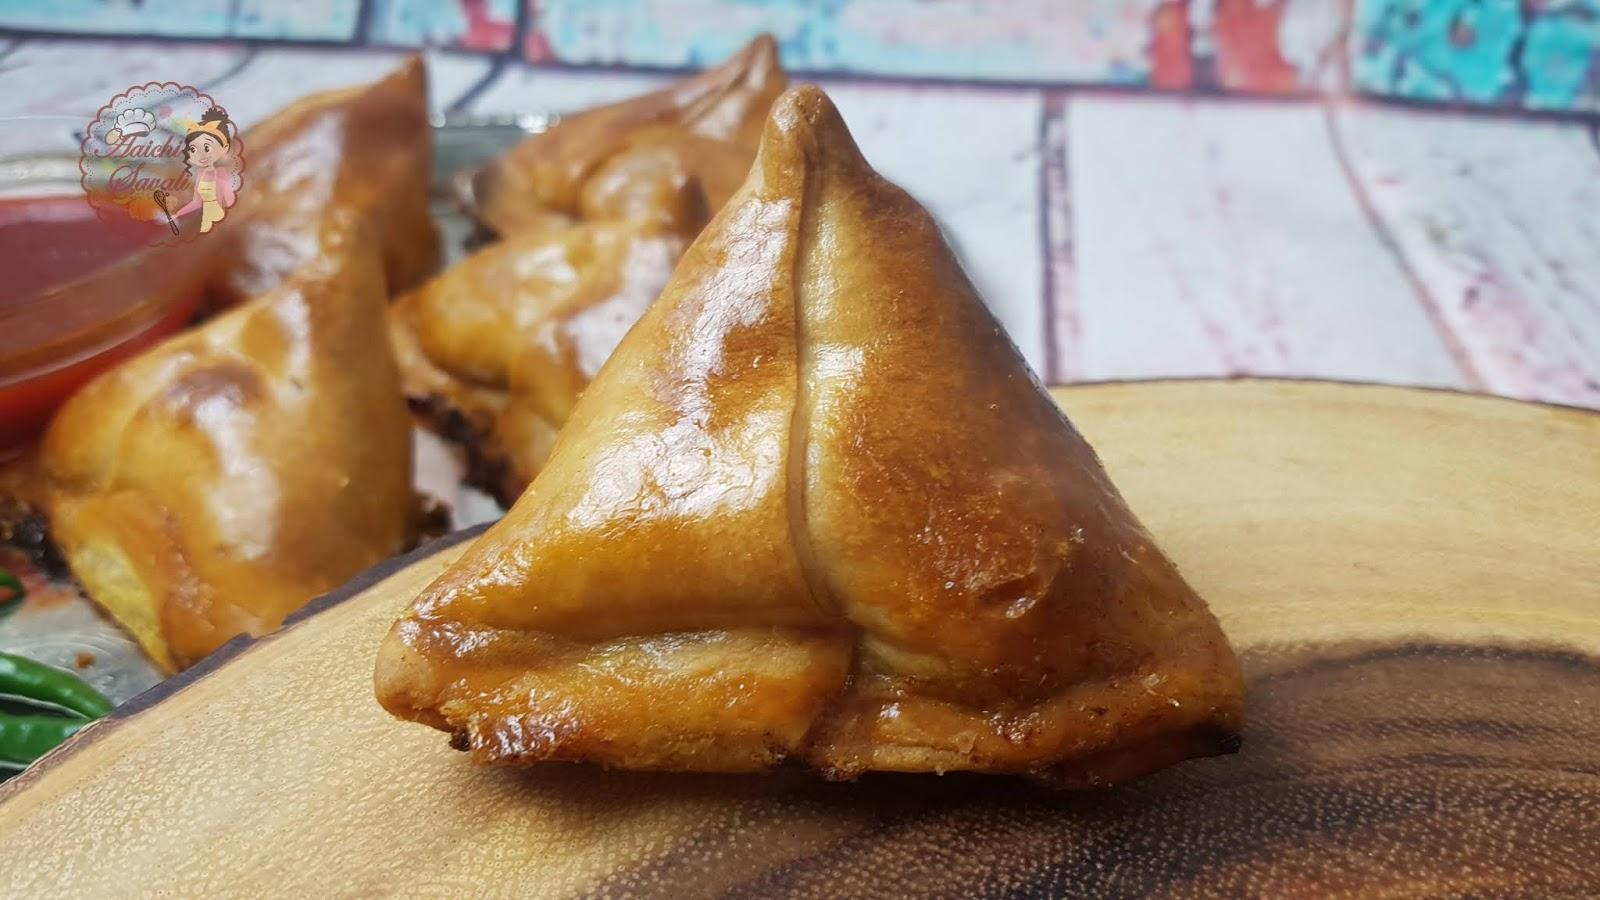samosa: (375, 88, 1244, 788)
